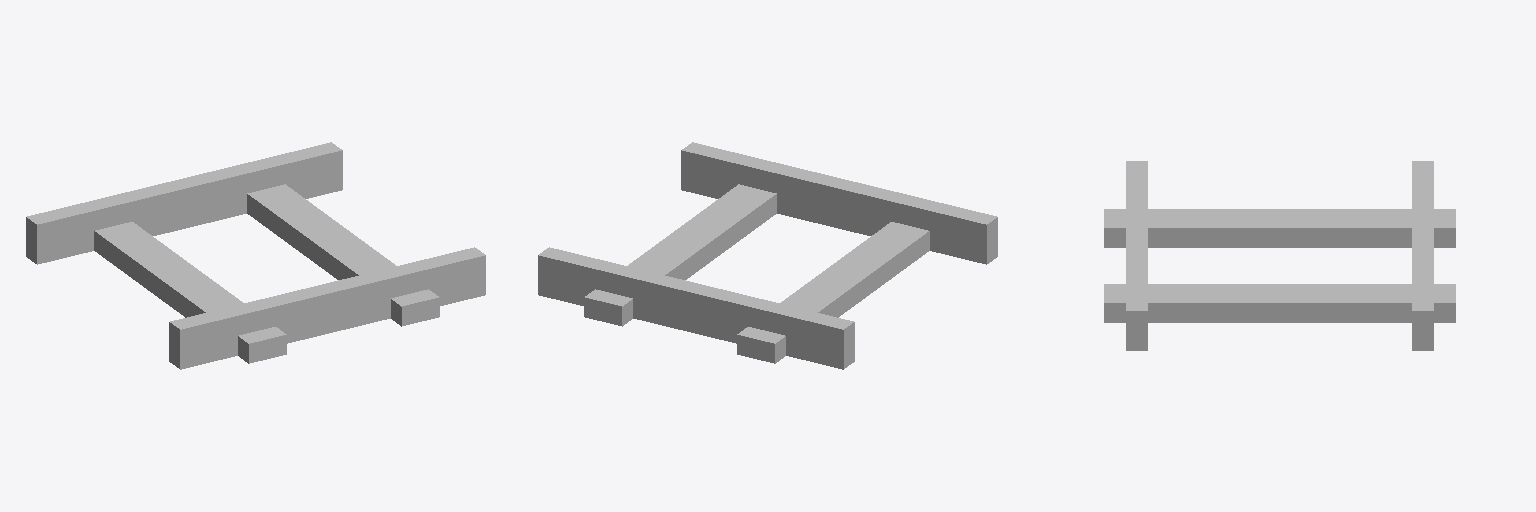
The model's file is rail_narrow.obj.
The picture shows the model from 3 angles: view 1: azimuth 30°, elevation 25°; view 2: azimuth 150°, elevation 25°; view 3: azimuth 270°, elevation 25°; orthographic projection.
Parts seen in each view (by area): view 1: Plane; view 2: Plane; view 3: Plane.
Boxes of the visible parts, x1,y1,x2,y2 form: Plane: [26, 142, 485, 369]; Plane: [538, 142, 997, 369]; Plane: [1104, 161, 1455, 350].
Size of the model in its own units: 1 by 0.125 by 1.